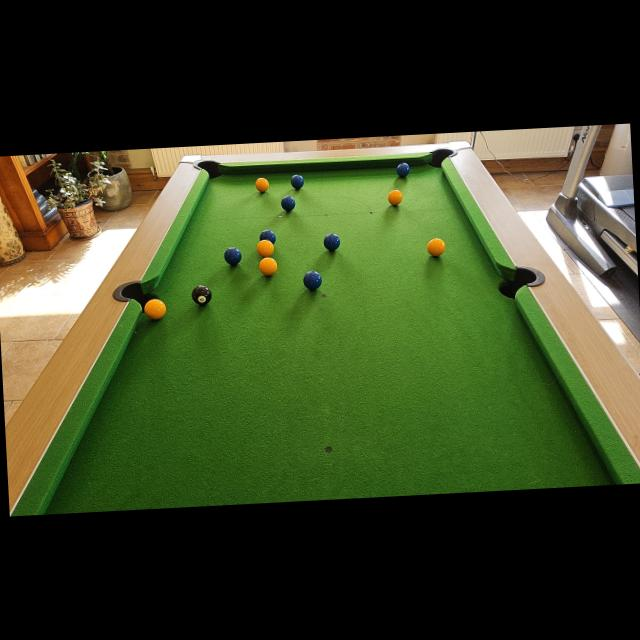Ball: (144, 298, 166, 320), (191, 284, 212, 306), (427, 236, 446, 258), (259, 256, 277, 277), (304, 270, 322, 291), (224, 246, 242, 266), (323, 233, 341, 252), (256, 240, 274, 258), (257, 229, 276, 246), (254, 177, 270, 193), (280, 196, 296, 212), (387, 190, 402, 207), (396, 162, 410, 178), (290, 174, 304, 190)
